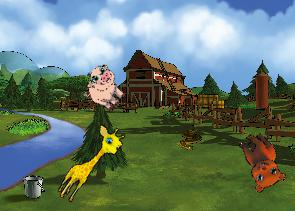bear: (225, 127, 293, 197)
giraffe: (53, 119, 129, 210)
pig: (77, 60, 133, 116)
